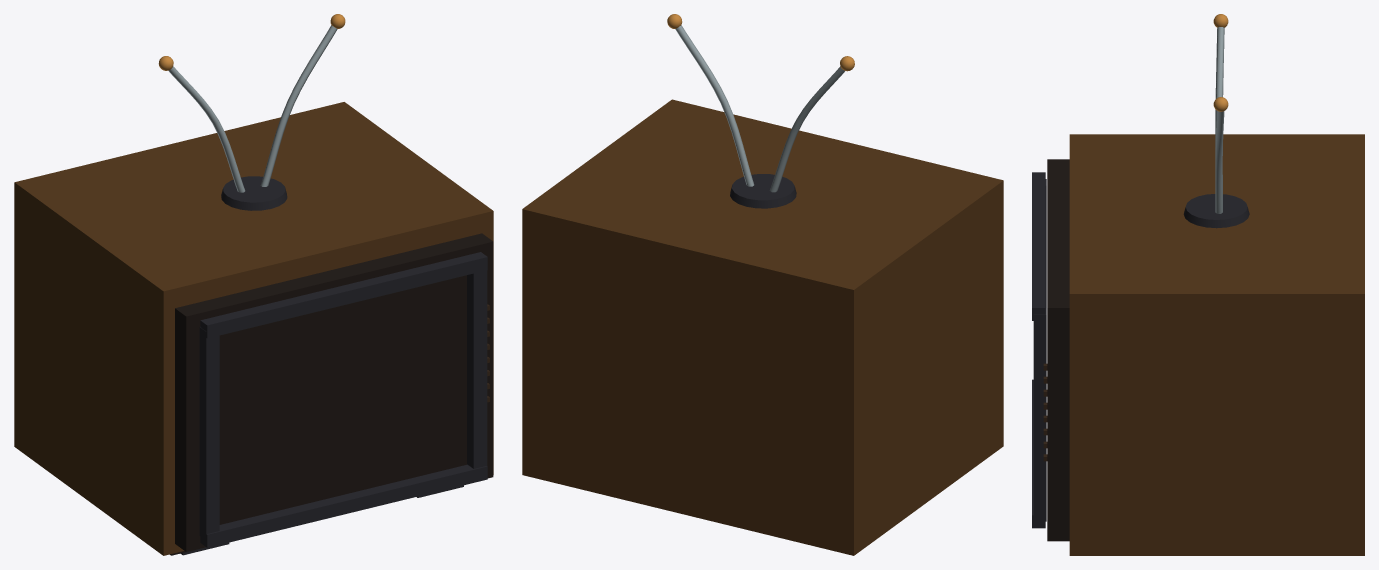
Rendered from mia-crt_tv.glb.
3 views of the same model, side by side, from view 1: azimuth 30°, elevation 25°; view 2: azimuth 150°, elevation 25°; view 3: azimuth 270°, elevation 25° (orthographic).
Visible parts, largest first — view 1: Body_wood, Body_black, Body_iron, Body_steel; view 2: Body_wood, Body_steel, Body_iron; view 3: Body_wood, Body_black, Body_iron, Body_steel.
Boxes of the visible parts, x1,y1,x2,y2 form: Body_wood: (14,102,493,555); Body_black: (170,233,493,555); Body_iron: (181,176,487,555); Body_steel: (168,25,337,192); Body_wood: (522,99,1003,555); Body_steel: (675,25,844,192); Body_iron: (730,174,796,208); Body_wood: (1069,134,1364,555); Body_black: (1047,159,1069,541); Body_iron: (1032,172,1249,528); Body_steel: (1215,27,1224,213).
Bounding box in the file's own units: 0.607 × 0.7615 × 0.5355.
